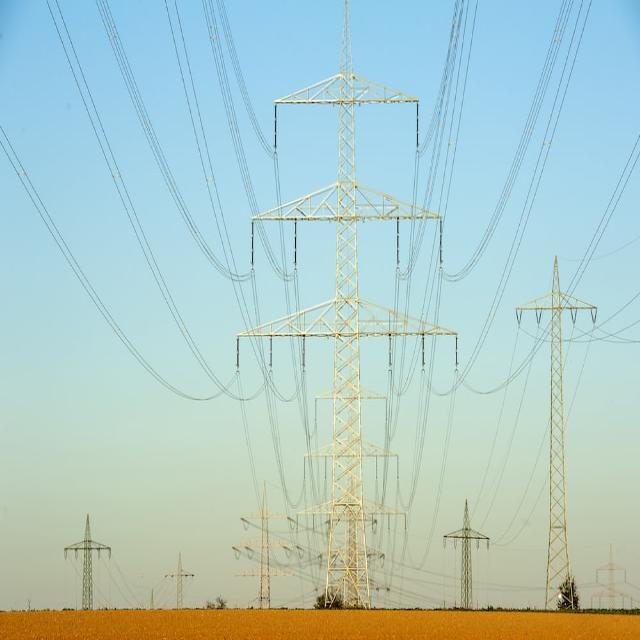transmission tower: (253, 64, 446, 622), (505, 271, 637, 605), (37, 498, 114, 615), (436, 468, 494, 617), (141, 520, 206, 622)
